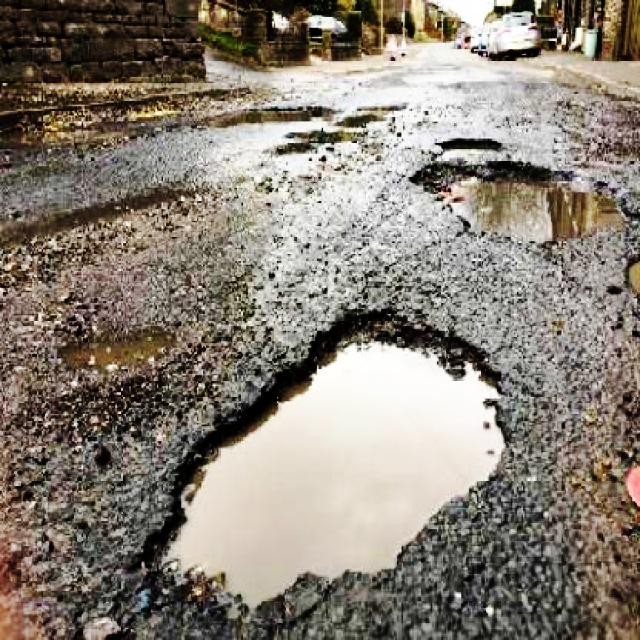pothole: (143, 308, 515, 608), (0, 180, 215, 303), (407, 150, 640, 252), (55, 318, 191, 382), (271, 102, 411, 163), (430, 134, 508, 157)
